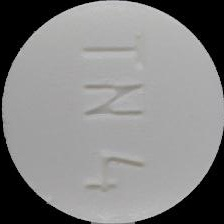16252-543: (0, 0, 224, 224)
